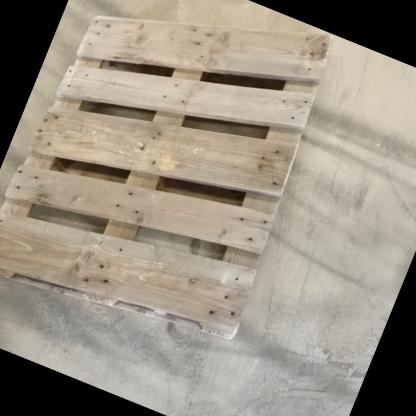BoxFace: (0, 8, 337, 351)
